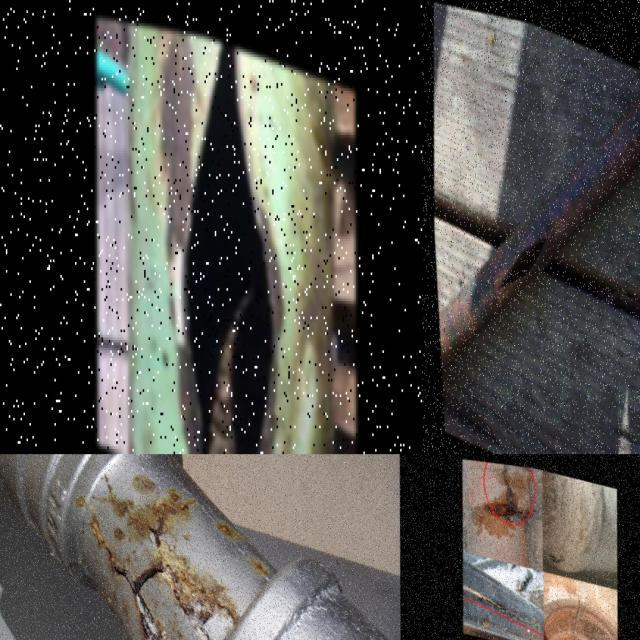crack: (83, 524, 168, 627), (461, 583, 539, 626), (499, 462, 518, 512), (567, 596, 581, 640)
rupture: (167, 30, 277, 454), (494, 227, 556, 299)
